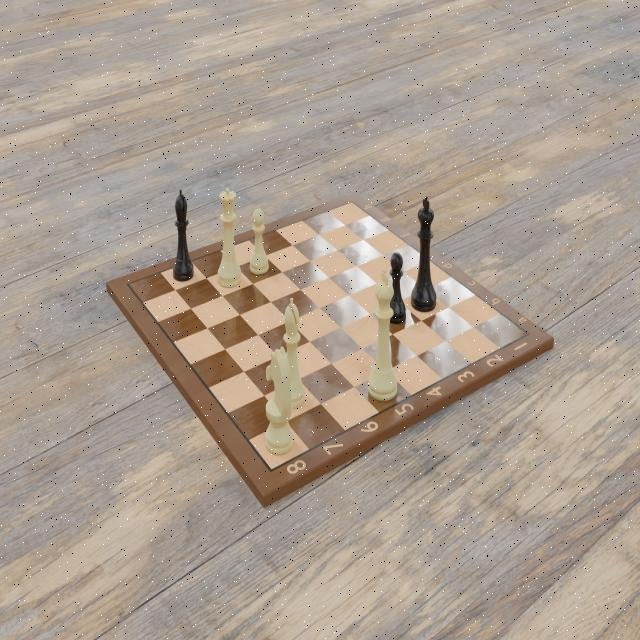black-bishop: (172, 188, 195, 282)
black-king: (410, 193, 438, 311)
black-pawn: (386, 252, 406, 324)
white-bishop: (278, 297, 306, 411)
white-king: (366, 268, 397, 402)
white-knight: (263, 346, 294, 456)
white-pawn: (249, 208, 270, 276)
white-queen: (217, 187, 243, 289)
